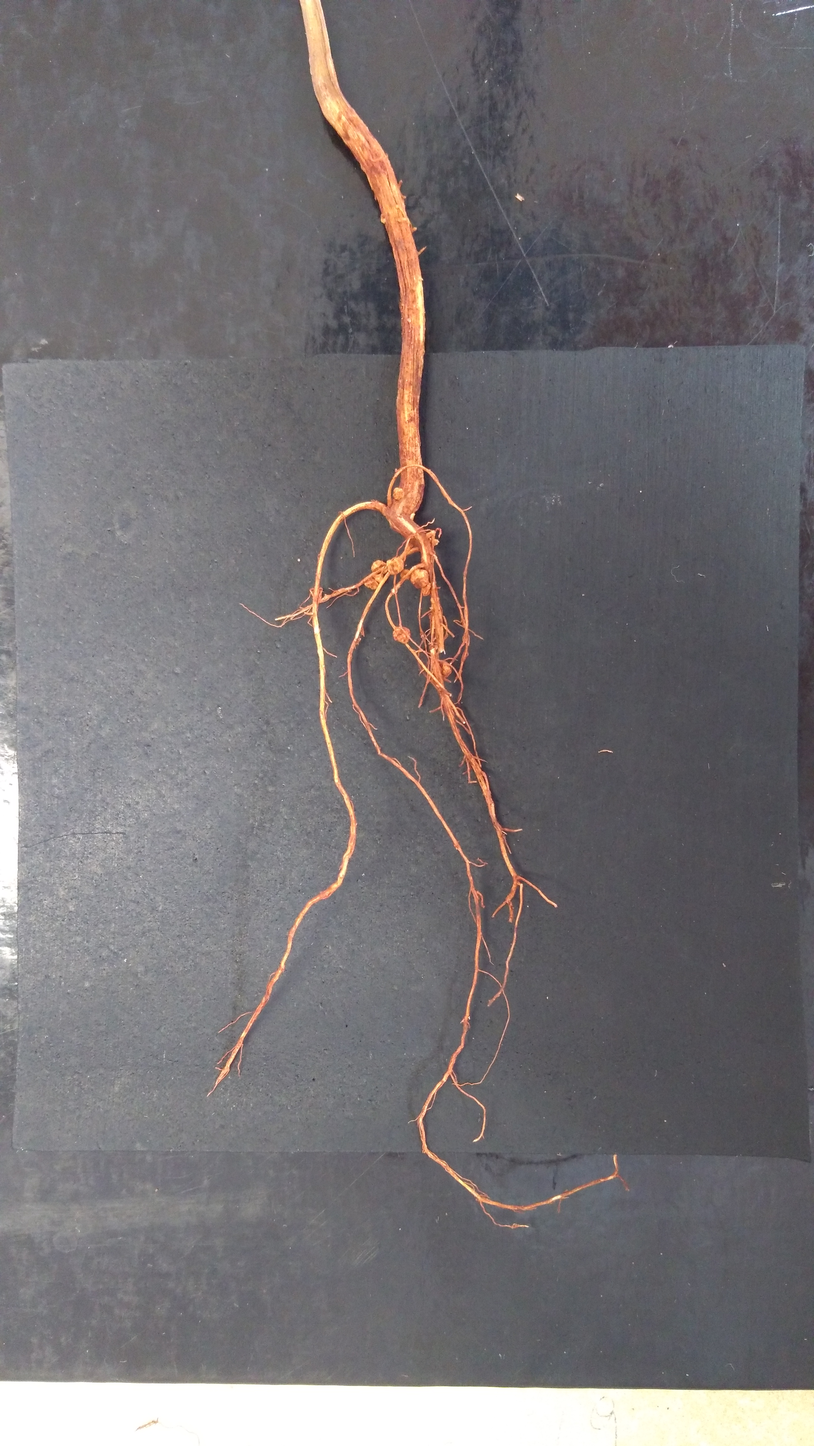nodule: (427, 660, 452, 678), (410, 569, 429, 588), (386, 557, 404, 575), (393, 627, 410, 644), (364, 575, 379, 589), (371, 560, 387, 573), (393, 487, 405, 500), (400, 569, 410, 580), (423, 583, 431, 596), (374, 573, 384, 583), (380, 213, 386, 224), (430, 539, 438, 546)
